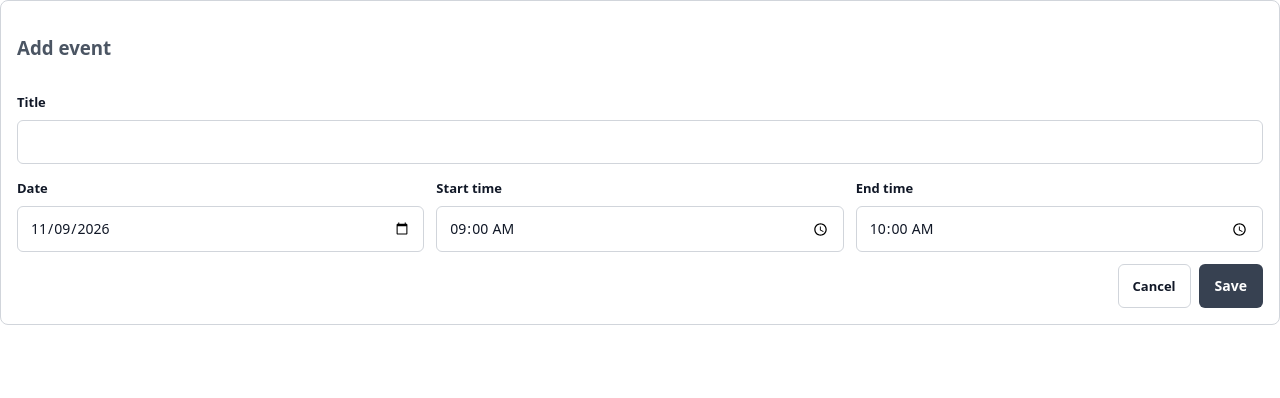
Test: EventForm › requires a title
Click the button "Save" at (1231, 286), box top-left (1199, 264), bottom-right (1263, 308)
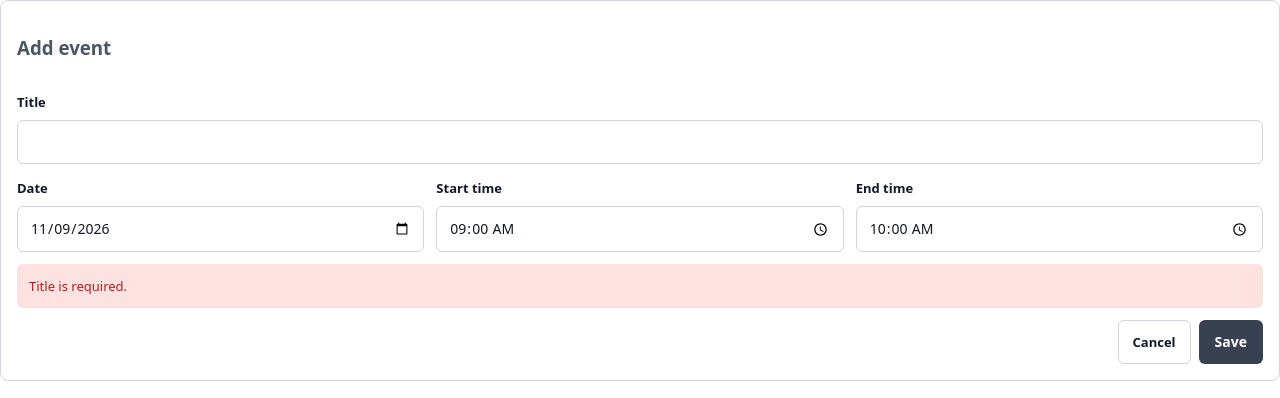
Result: the message reads "Title is required." at top-left (29, 277), bottom-right (127, 295)
